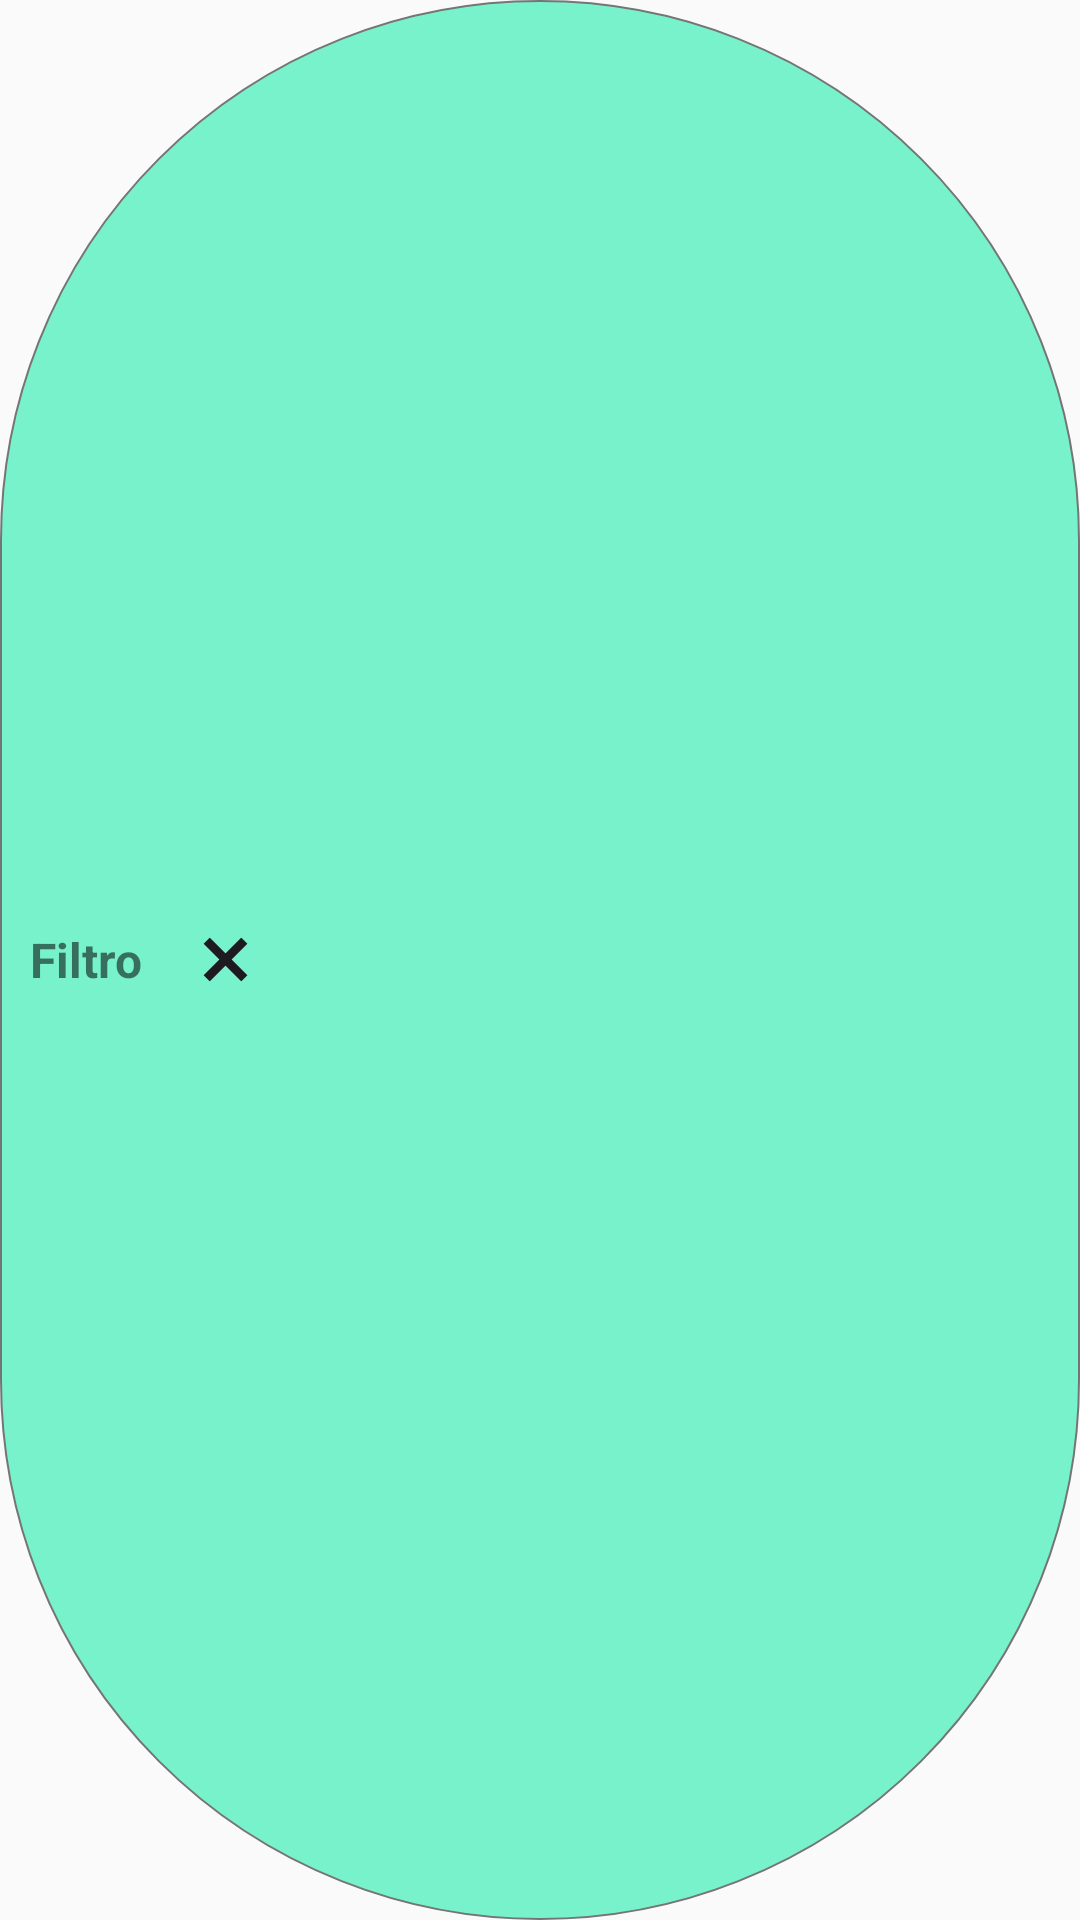

Point at icon controls on the screen. Image size 1080px x 1920px, points as (x,y).
close: (225,959)
